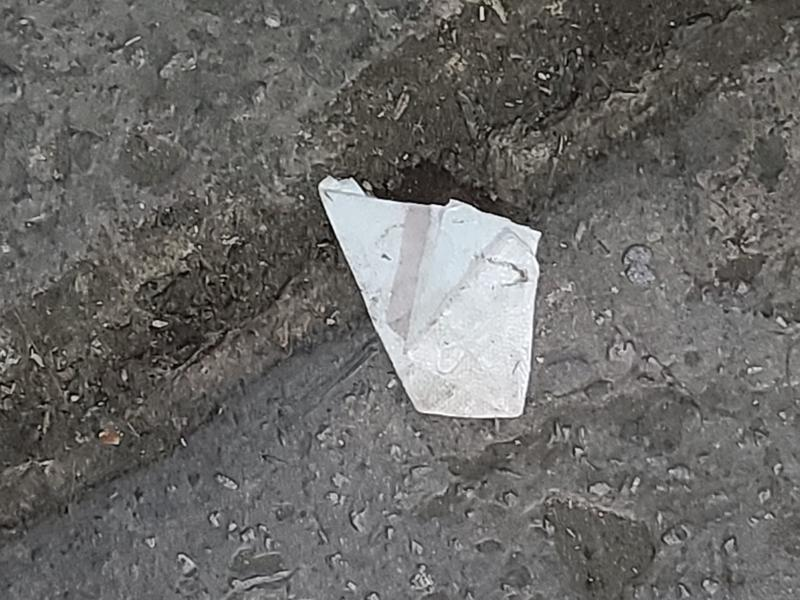papel: (317, 179, 542, 422)
